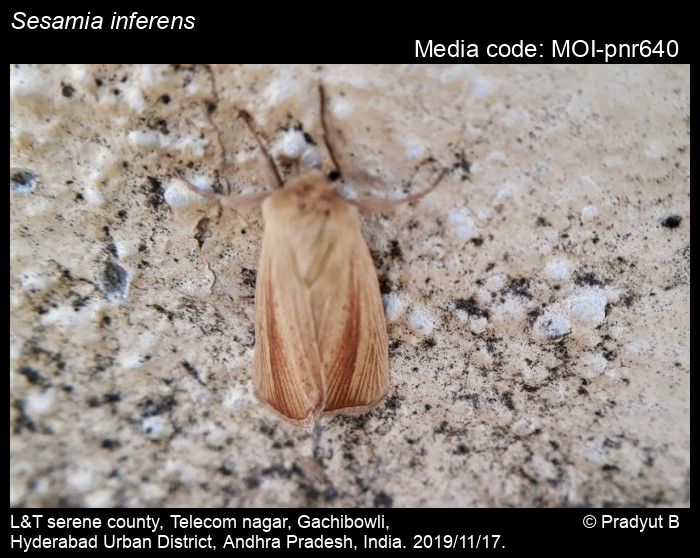Noctuidae: (175, 84, 447, 425)
